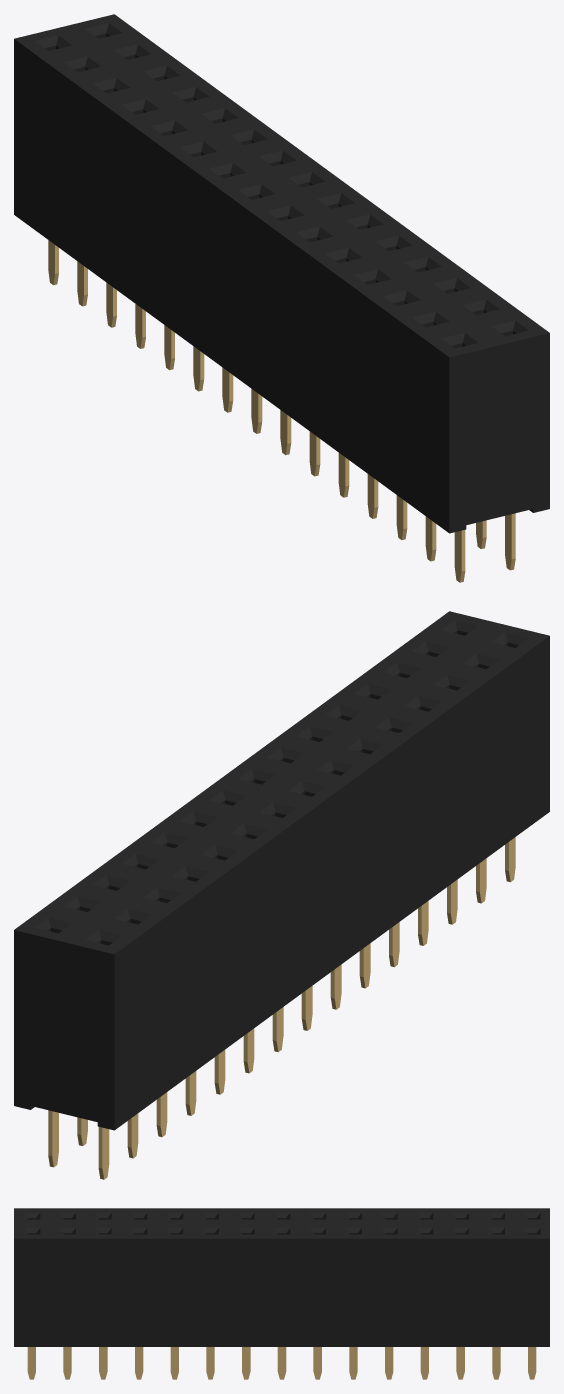
The model's file is kc-pinsocket_2x15_p2.54mm_vertical.glb.
The picture shows the model from 3 angles, top to bottom: view 1: azimuth 30°, elevation 25°; view 2: azimuth 150°, elevation 25°; view 3: azimuth 270°, elevation 25°; orthographic projection. The views are drawn at different scales.
Parts seen in each view (by area): view 1: 0_0_0_0, 0.75_0.5_0.25_0.9; view 2: 0_0_0_0, 0.75_0.5_0.25_0.9; view 3: 0_0_0_0, 0.75_0.5_0.25_0.9.
Part boxes in pixels (x1,y1,x2,y2): 0_0_0_0: [14, 14, 549, 533]; 0.75_0.5_0.25_0.9: [48, 240, 515, 582]; 0_0_0_0: [14, 611, 549, 1130]; 0.75_0.5_0.25_0.9: [48, 837, 515, 1179]; 0_0_0_0: [14, 1208, 549, 1346]; 0.75_0.5_0.25_0.9: [27, 1347, 536, 1379].
Size of the model in its own units: 0.5079 by 1.16 by 3.81.
